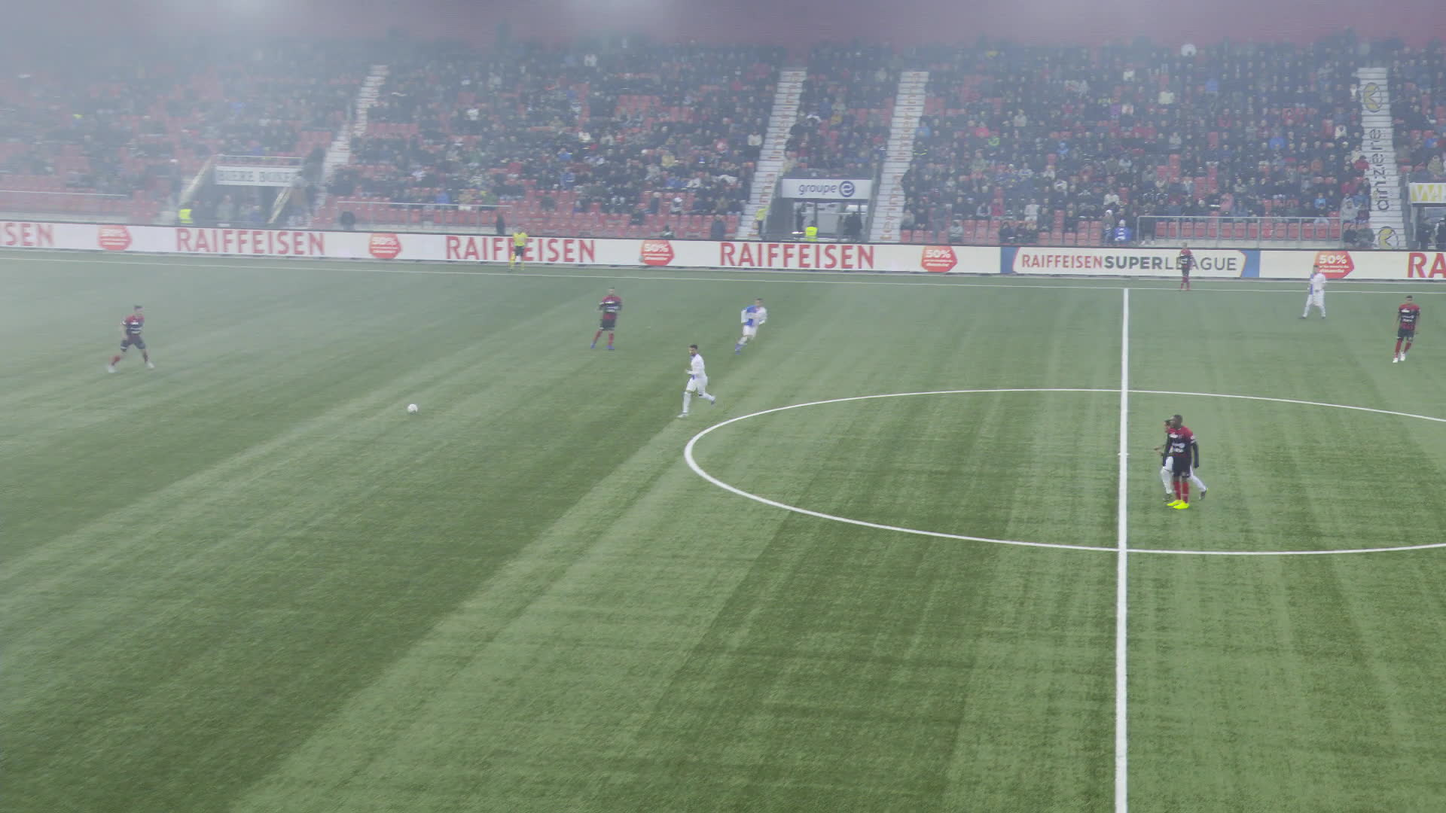ball: (407, 404, 416, 412)
player: (1161, 419, 1207, 500), (1161, 414, 1198, 509), (108, 304, 154, 373), (678, 344, 716, 418), (589, 287, 622, 351), (1392, 294, 1420, 363), (734, 297, 767, 355), (1298, 264, 1328, 319), (1177, 241, 1198, 291)
referee: (508, 227, 527, 273)
